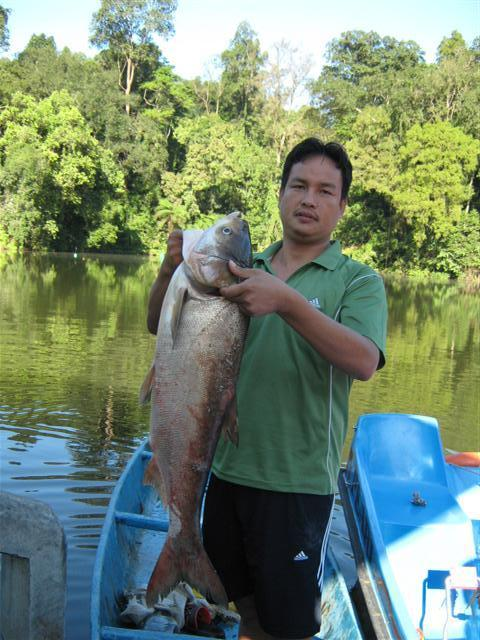Mulut: (224, 201, 255, 237)
Sirip Anal: (134, 448, 180, 516)
Sirip Dada: (167, 281, 202, 351)
Sirip Ekor: (136, 530, 242, 614)
Sirip Perut: (130, 358, 168, 408)
Sirip Punggung: (218, 375, 252, 451)
